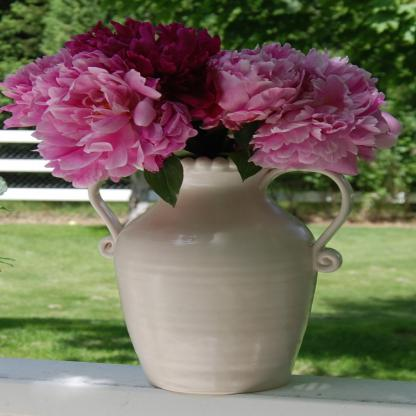vase: (86, 158, 354, 394)
